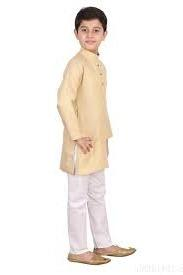Human: (58, 5, 138, 263)
